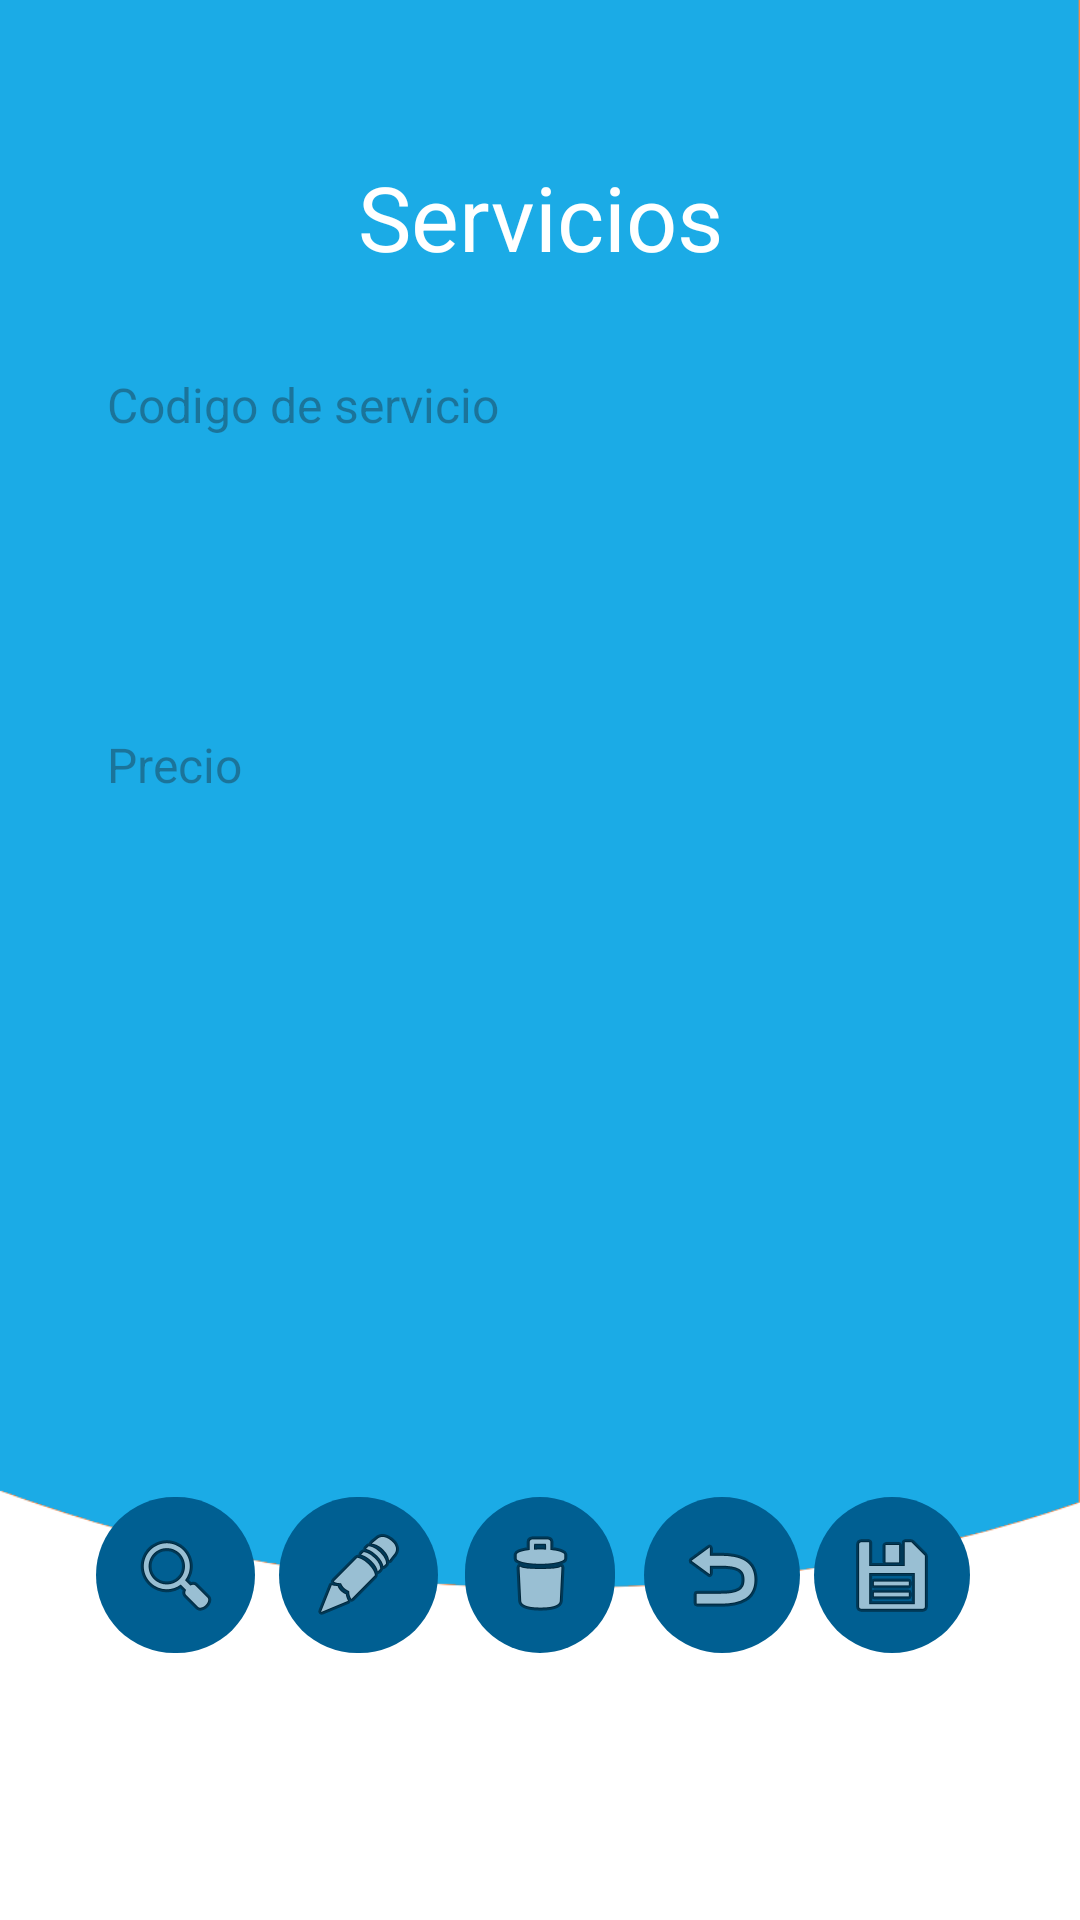

Icon click points for this 1080 x 1920 phone screenshot, format (x,y):
delete: (540,1575)
edit: (358,1575)
revert: (722,1575)
save: (892,1575)
search: (175,1575)
